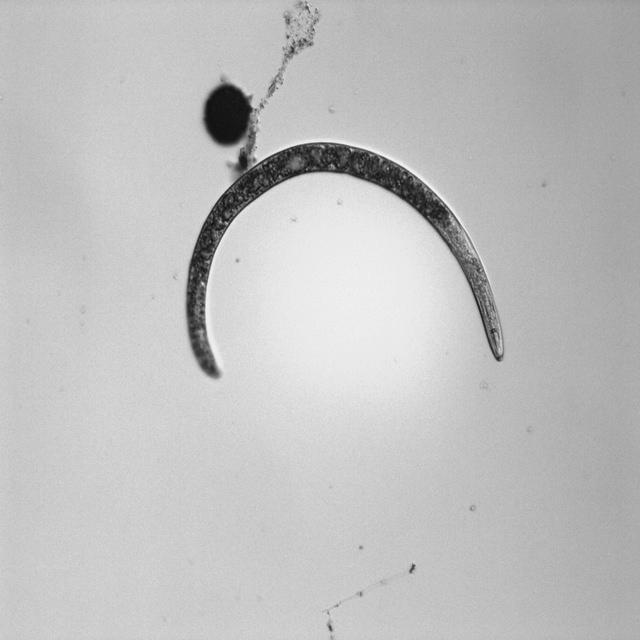Helicotylenchus: (177, 139, 513, 398)
